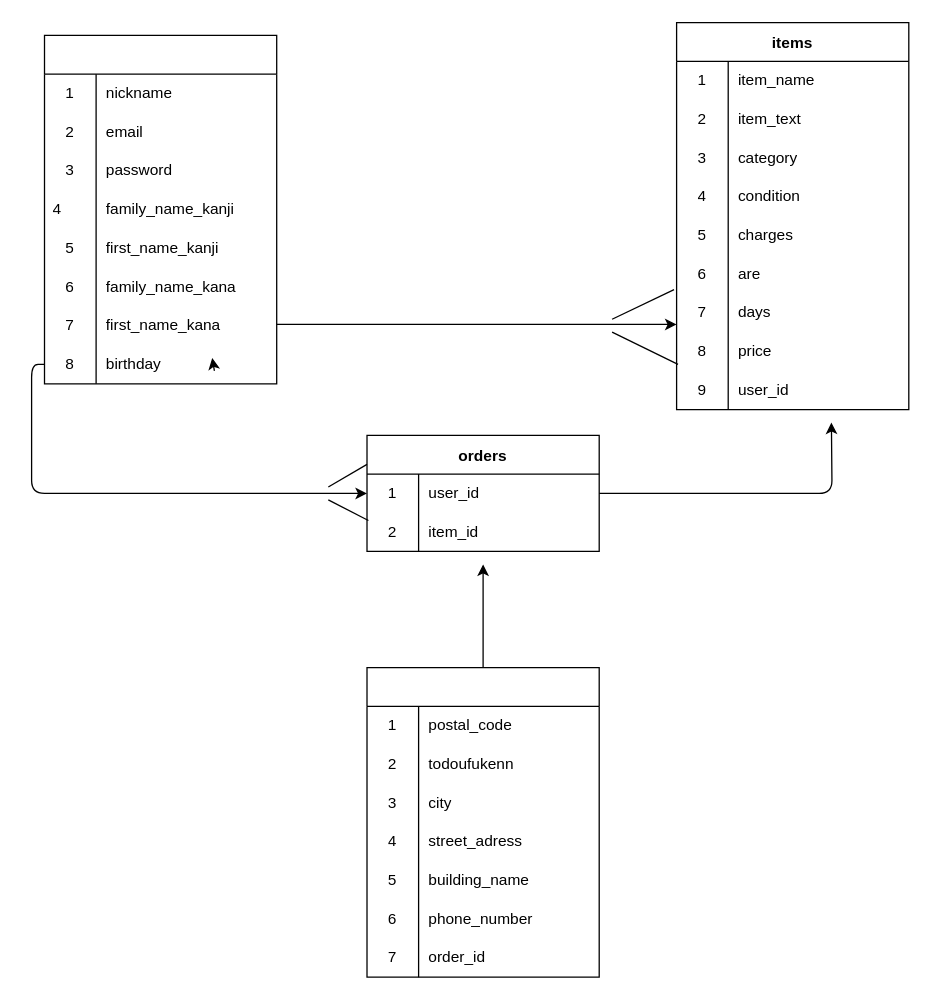
This 931x1000 diagram has some shape labels left out. The shapes that lost their labels are listed below. From the top down, each one's box as (x1, y1, x2, y2) in pixels, then its label:
(43, 34, 277, 384): users
(366, 666, 599, 977): purchasers
